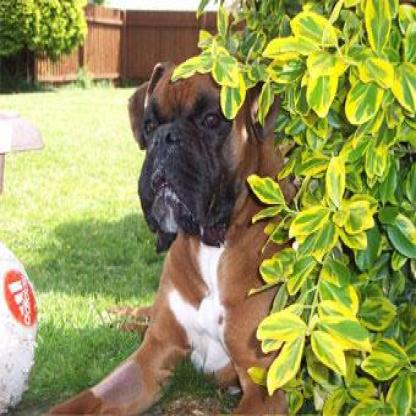boxer: (44, 55, 321, 413)
